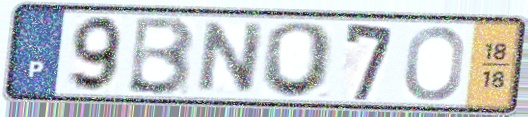7: (344, 20, 394, 103)
9: (65, 14, 125, 95)
B: (123, 14, 197, 98)
N: (192, 19, 269, 95)
O: (257, 20, 339, 100), (402, 24, 468, 103)
